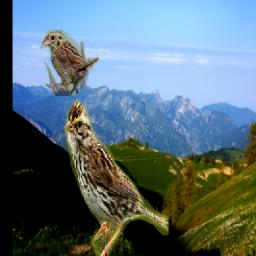Sparrow: (65, 97, 170, 256), (41, 30, 100, 96)
